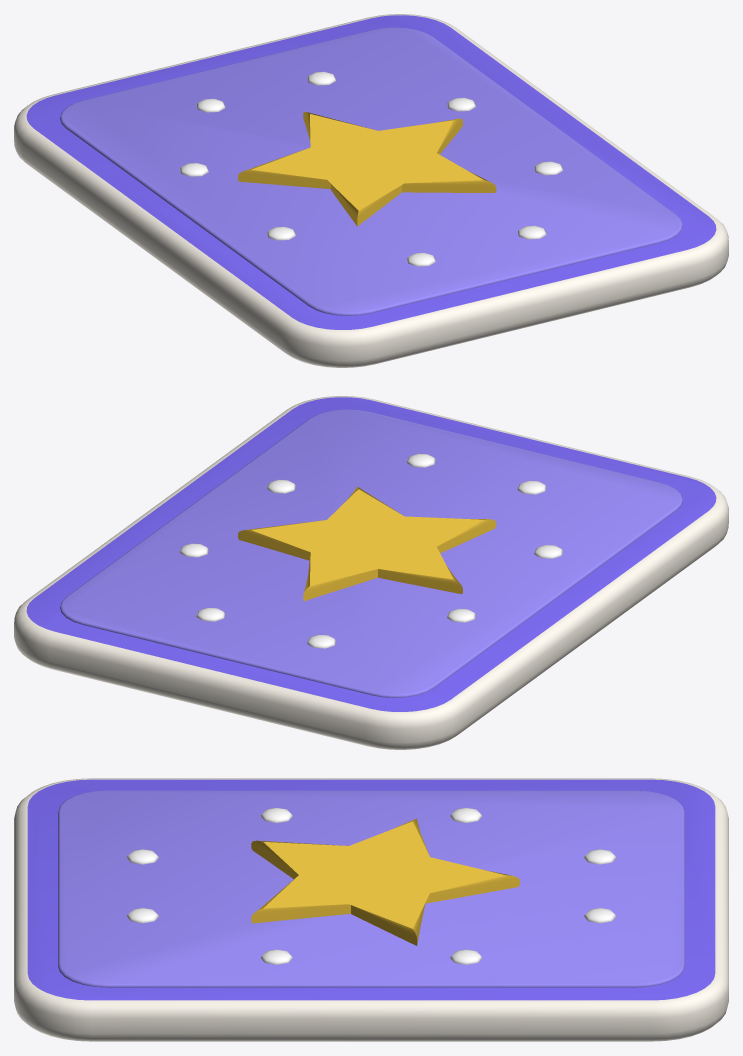
File: card.glb
3 renders of one model, top to bottom at view 1: azimuth 30°, elevation 25°; view 2: azimuth 150°, elevation 25°; view 3: azimuth 270°, elevation 25°, orthographic. The views are drawn at different scales.
Parts seen in each view (by area): view 1: card_mesh; view 2: card_mesh; view 3: card_mesh.
Boxes of the visible parts, box(x1,y1,x2,y2) form: card_mesh: box(14, 14, 728, 367); card_mesh: box(14, 396, 728, 749); card_mesh: box(14, 778, 728, 1041).
Size of the model in its own units: 1 by 0.118 by 1.3.
